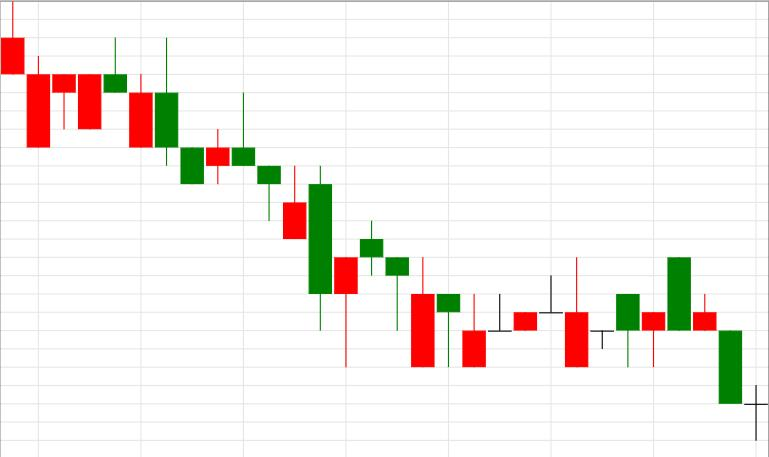hammer_rise: (206, 92, 357, 368)
